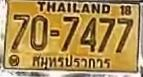0: (30, 14, 47, 50)
4: (79, 16, 95, 50)
7: (11, 13, 29, 49), (115, 17, 132, 52), (97, 17, 114, 51), (62, 15, 78, 50)
SPK: (31, 54, 110, 70)
